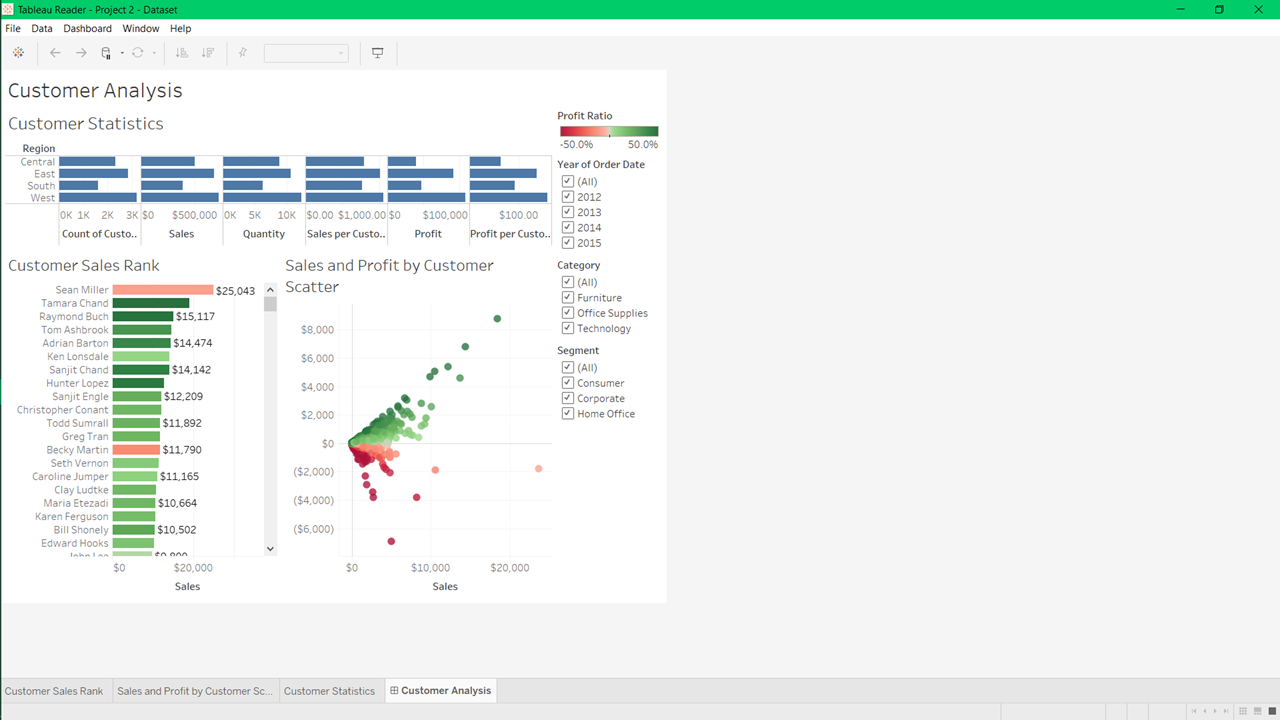

This screenshot's page, from the dashboard's own definition file:
{"tool":"tableau","page":{"name":"Customer Analysis","canvas":[1000,800],"ordinal":0},"visuals":[{"type":"title","box":[0,0,1000,46]},{"type":"worksheet","title":"Customer Statistics","mark":"Automatic","rows":["Region"],"cols":["Customer Name","Sales","Quantity","Calculation_9321103144526191","Profit","Calculation_9321103144526191 1"],"box":[0,46,840,218.7]},{"type":"legend","title":"Sales and Profit by Customer Scatter","param":"[dataengine.42019.618651678240].[usr:Calculation_9921103144103743:qk]","box":[840,46,160,65]},{"type":"filter","title":"Sales and Profit by Customer Scatter","param":"[dataengine.42019.618651678240].[yr:Order Date:ok]","box":[840,111,160,127]},{"type":"filter","title":"Sales and Profit by Customer Scatter","param":"[dataengine.42019.618651678240].[none:Category:nk]","box":[840,238,160,108]},{"type":"worksheet","title":"Customer Sales Rank","mark":"Automatic","rows":["Customer Name"],"cols":["Sales"],"box":[0,264.7,420,535.3]},{"type":"worksheet","title":"Sales and Profit by Customer Scatter","mark":"Automatic","rows":["Profit"],"cols":["Sales"],"box":[420,264.7,420,535.3]},{"type":"filter","title":"Sales and Profit by Customer Scatter","param":"[dataengine.42019.618651678240].[none:Segment:nk]","box":[840,346,160,108]}]}

Visuals, with their boxes on the page's 1000x800 design canvas (x1, y1, x2, y2). These are canvas units, not pixel positions in the 1280x720 screenshot, which may show the page scaled, cropped or inside an application window:
title: <region>0, 0, 1000, 46</region>
"Customer Statistics" worksheet: <region>0, 46, 840, 265</region>
"Sales and Profit by Customer Scatter" legend: <region>840, 46, 1000, 111</region>
"Sales and Profit by Customer Scatter" filter: <region>840, 111, 1000, 238</region>
"Sales and Profit by Customer Scatter" filter: <region>840, 238, 1000, 346</region>
"Customer Sales Rank" worksheet: <region>0, 265, 420, 800</region>
"Sales and Profit by Customer Scatter" worksheet: <region>420, 265, 840, 800</region>
"Sales and Profit by Customer Scatter" filter: <region>840, 346, 1000, 454</region>
